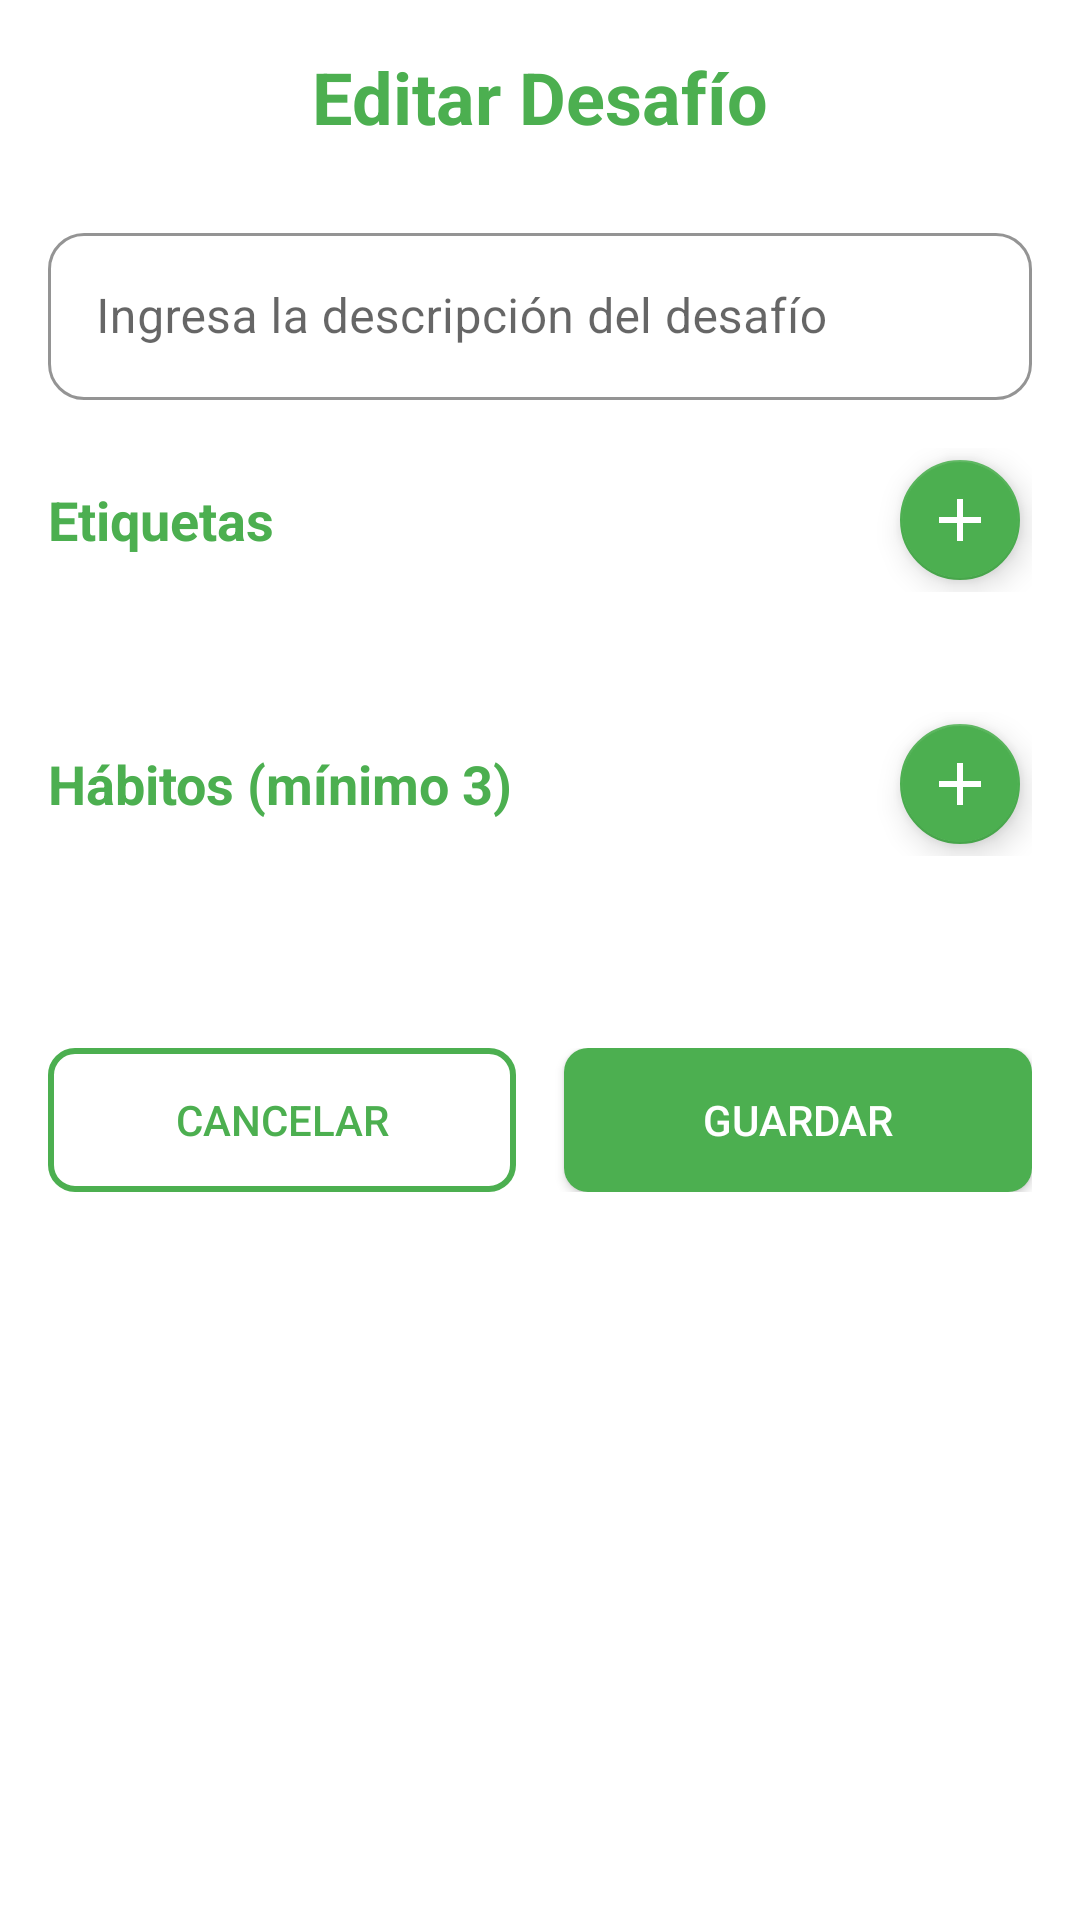

Named icons in this screenshot (1080x1920) and their centers, [x,y]:
add: [961,521], [961,786]
